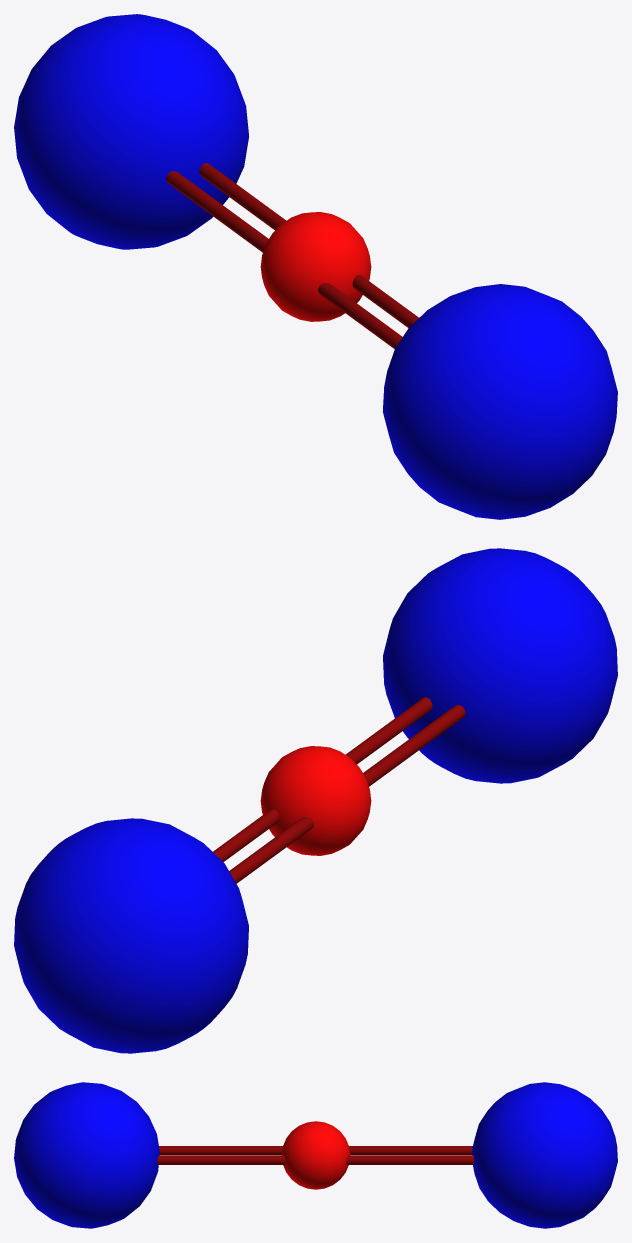
3 renders of one model, top to bottom at view 1: azimuth 30°, elevation 25°; view 2: azimuth 150°, elevation 25°; view 3: azimuth 270°, elevation 25°, orthographic. The views are drawn at different scales.
Parts seen in each view (by area): view 1: Group5, Group4, Group3; view 2: Group5, Group3, Group4; view 3: Group5, Group3, Group4.
Boxes of the visible parts, box(x1,y1,x2,y2) form: Group5: box(14, 14, 617, 519); Group4: box(166, 163, 286, 252); Group3: box(318, 274, 418, 348); Group5: box(14, 548, 617, 1053); Group3: box(345, 697, 465, 786); Group4: box(213, 808, 313, 883); Group5: box(14, 1082, 617, 1228); Group3: box(157, 1146, 285, 1164); Group4: box(346, 1146, 474, 1164).
Bounding box in the file's own units: 638 × 637 × 2638.
